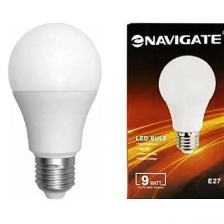book: (120, 13, 224, 202)
light_bulb: (4, 19, 104, 203)
